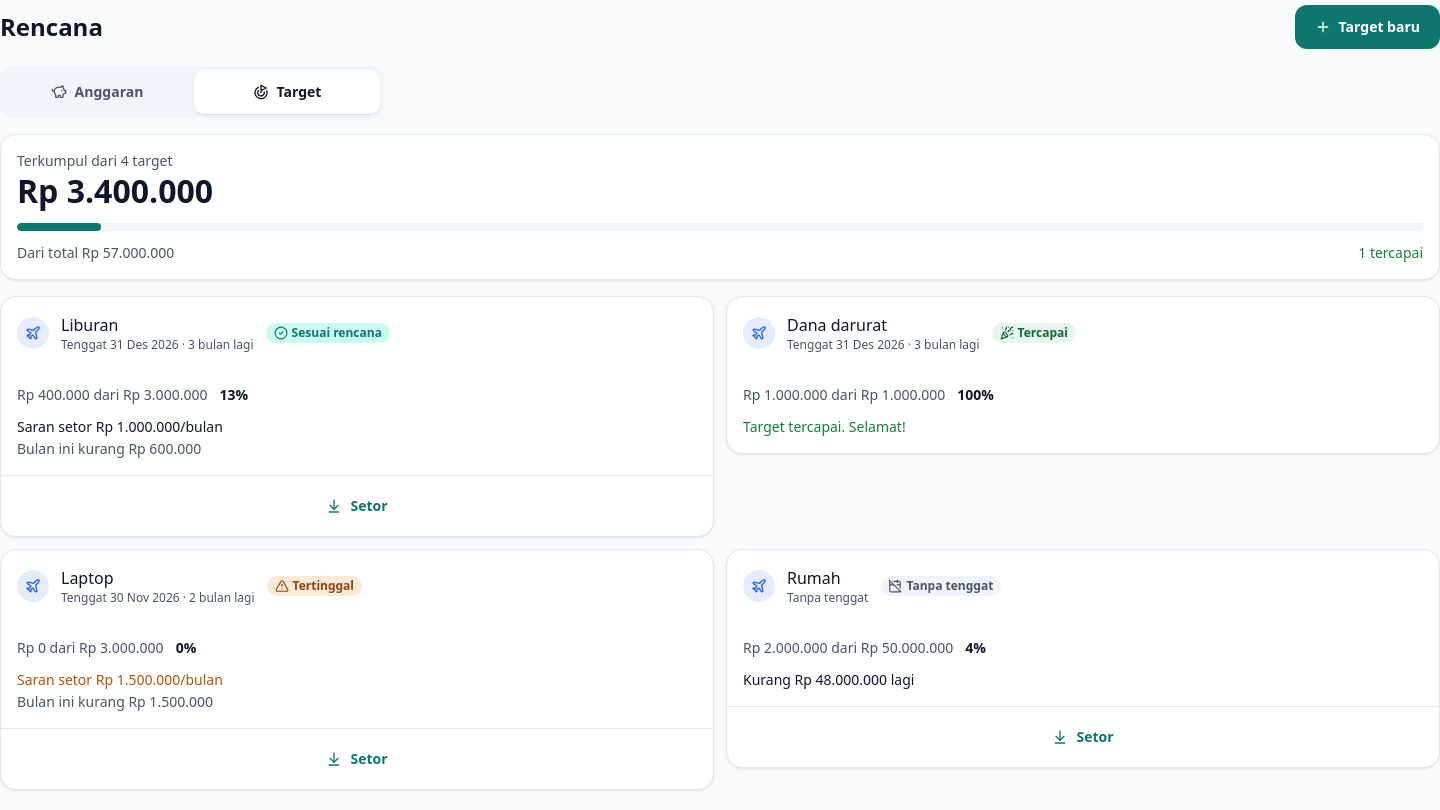
GoalsPage › setoran yang mencapai target memberi ucapan selamat
Click the button with aria-label "Setor ke Liburan": point(357, 506) [9,484,705,528]
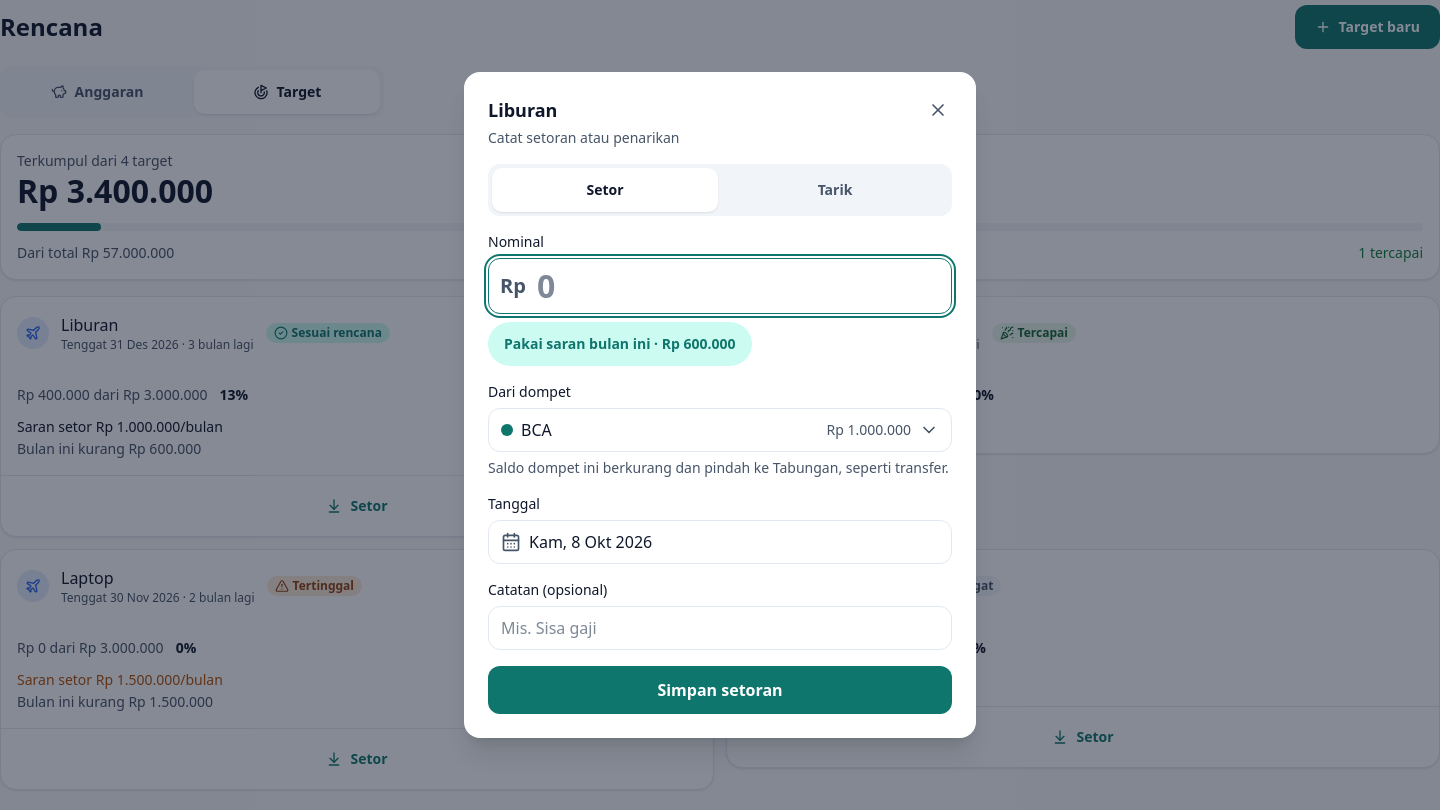
In the field labelled "Nominal": point(720, 286) [488,258,952,314], type "2600000"
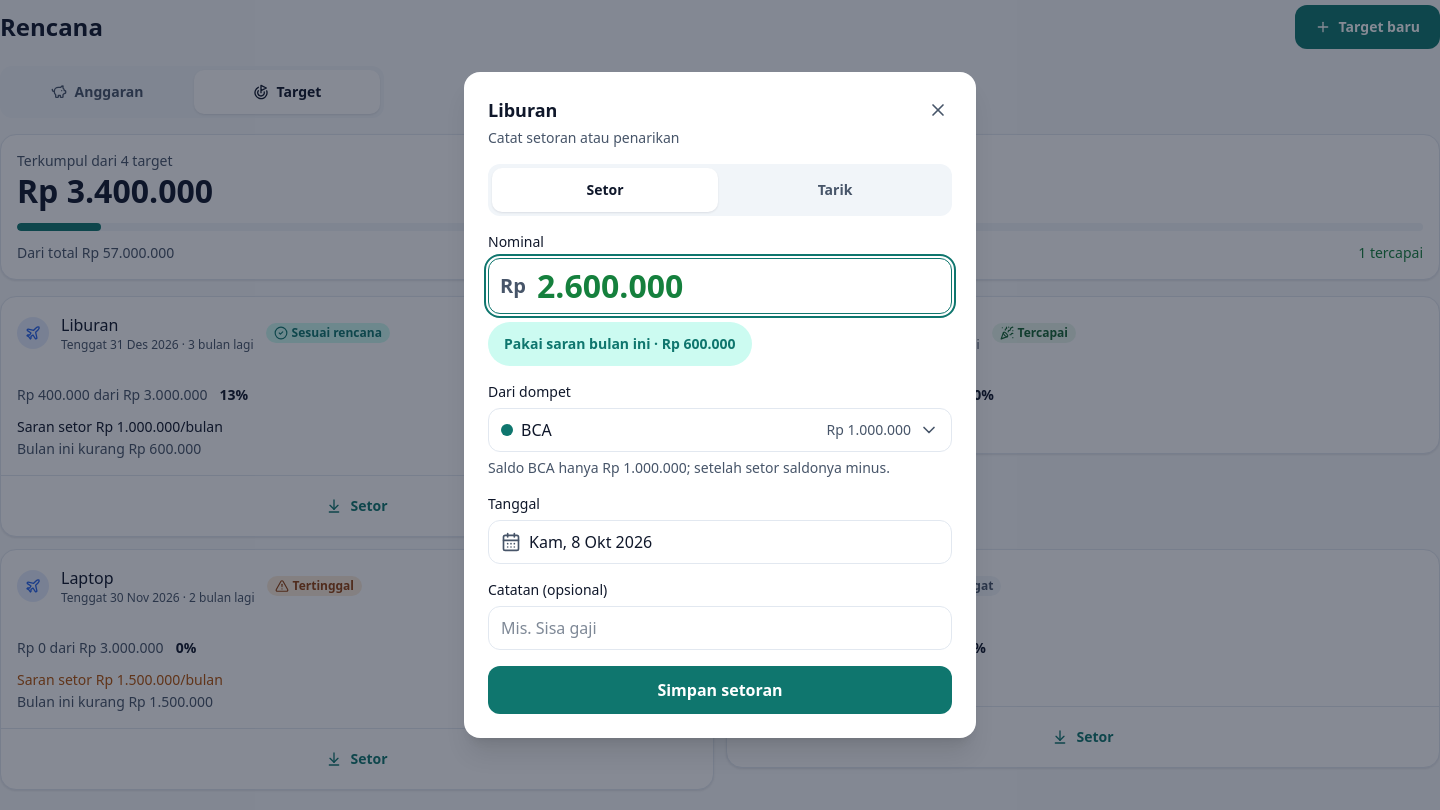
Click the button "Simpan setoran": point(720, 690) [488,666,952,714]
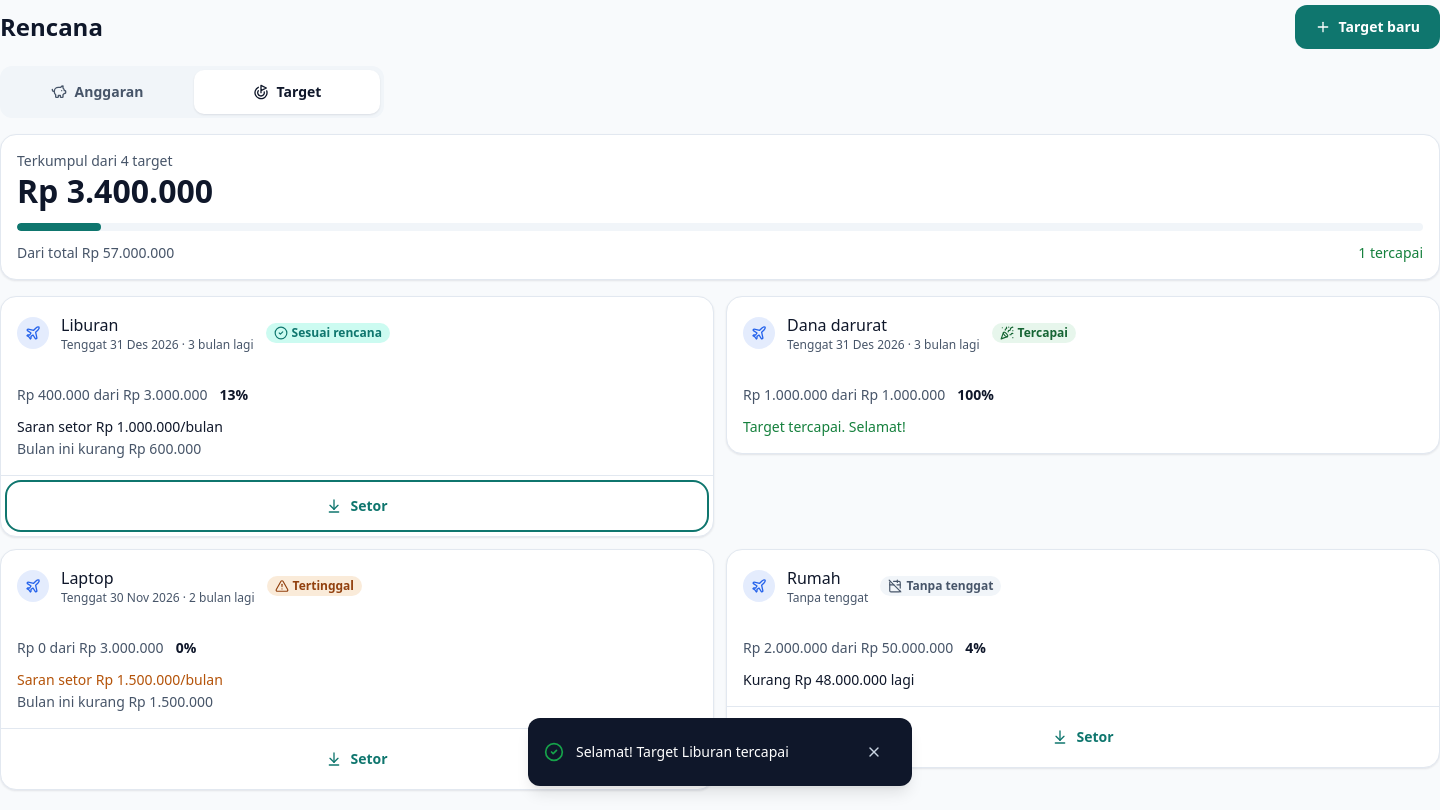
Result: the text "Selamat! Target Liburan tercapai" is shown at [576,742,789,761]
